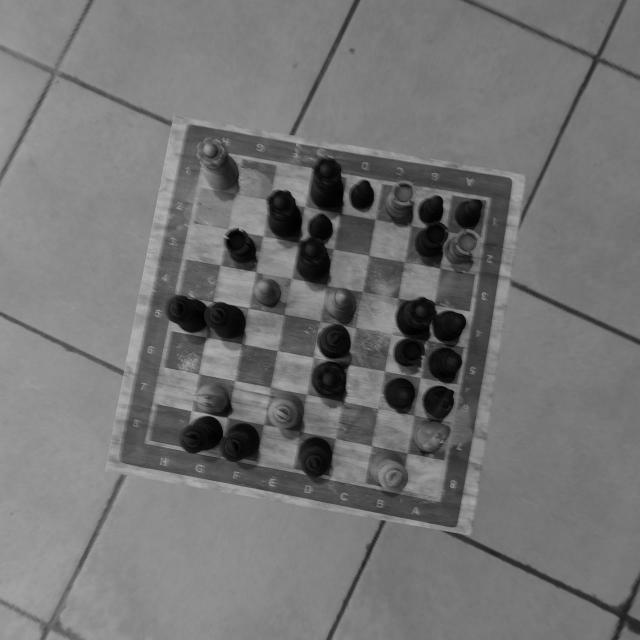chessboard: (146, 152, 487, 500)
